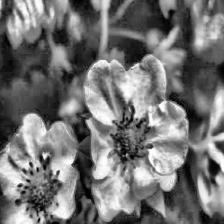Blossom Blight: (12, 154, 64, 224)
